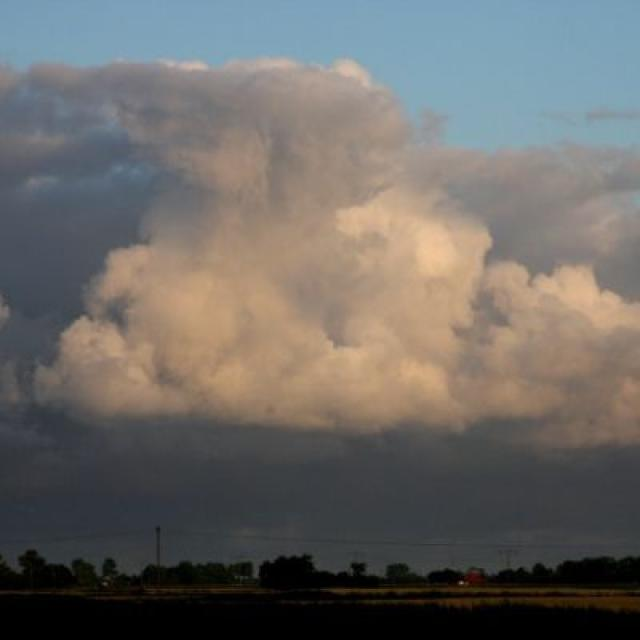Cu: (1, 30, 640, 460)
